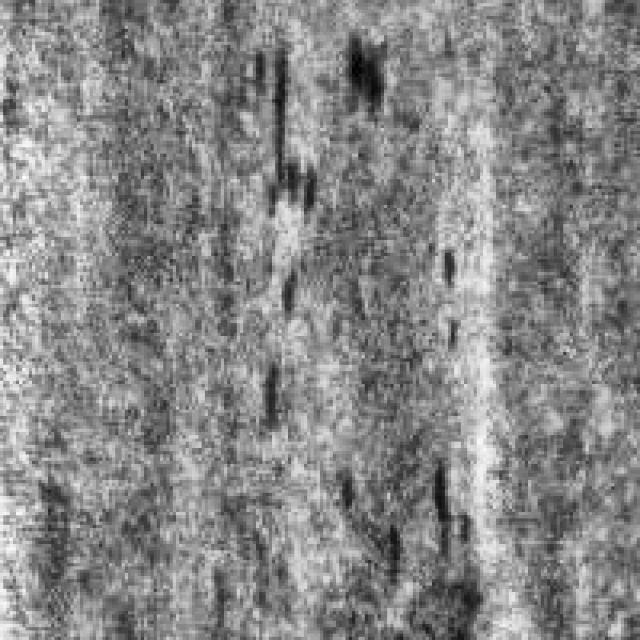Patches: (234, 42, 324, 225), (365, 454, 477, 596), (326, 22, 394, 122), (243, 346, 294, 444)
